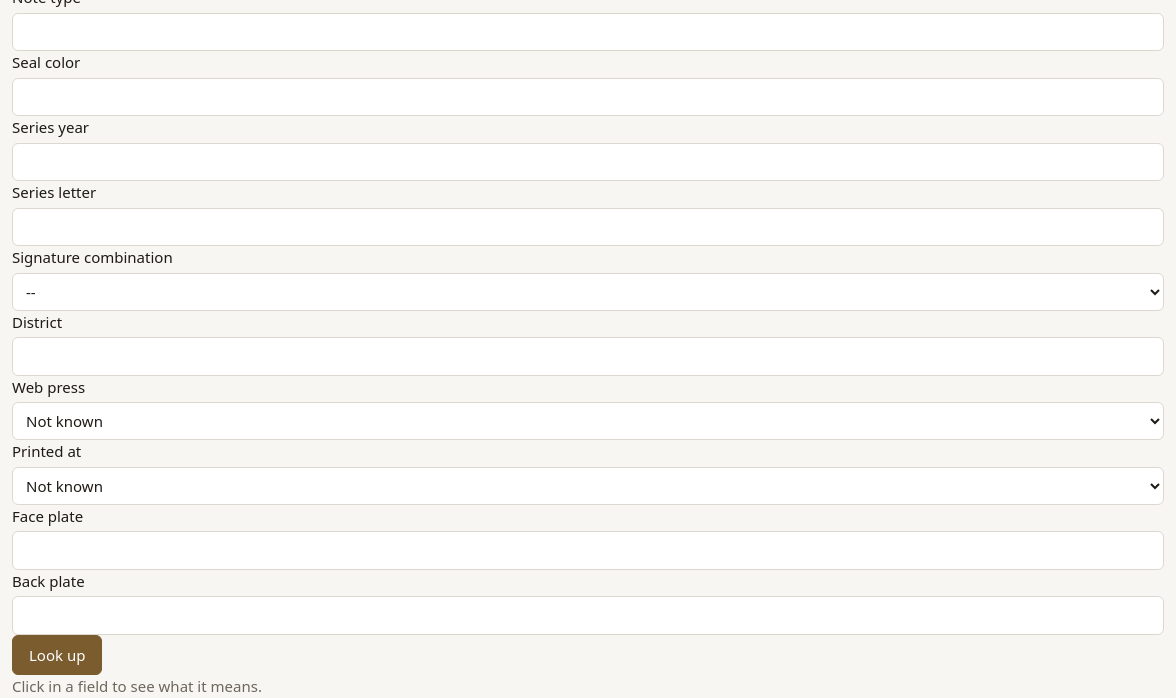
Test: FriedbergLookup › surfaces a 409 on recording rather than swallowing it
(page scrolled)
Click the button "Look up" at (57, 655), box [12, 634, 102, 675]
(page scrolled)
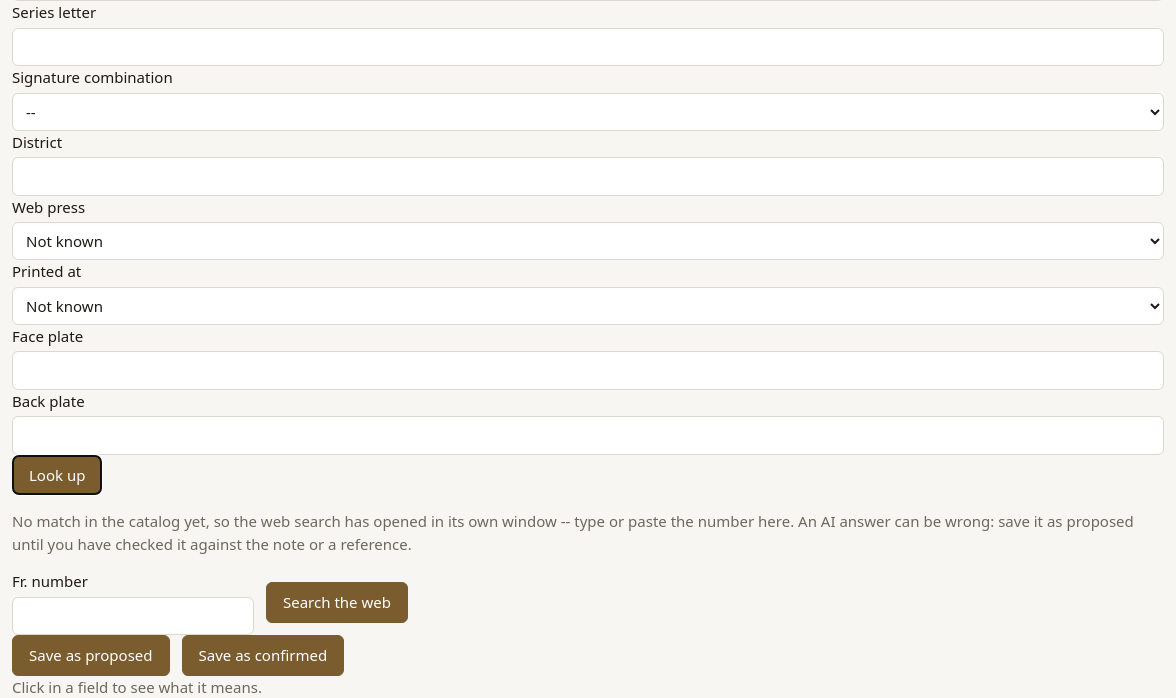
Type "9903" into the field labelled "Fr. number" at (133, 616), box [12, 596, 254, 635]
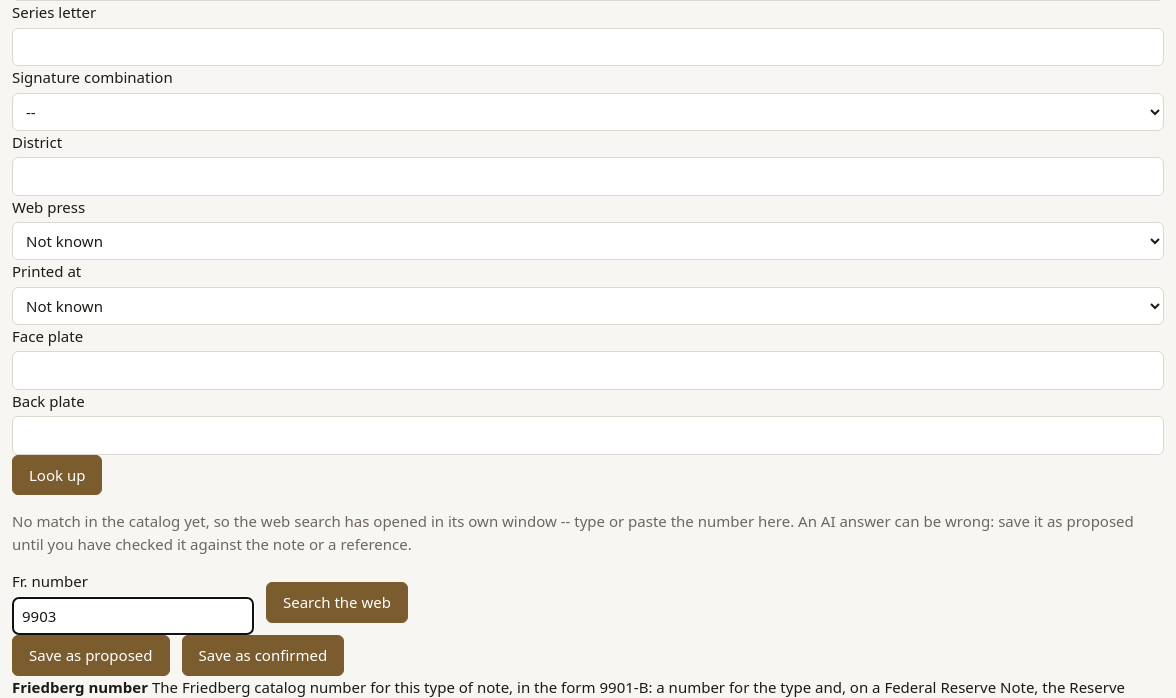
Click the button "Save as proposed" at (91, 655), box [12, 635, 170, 676]
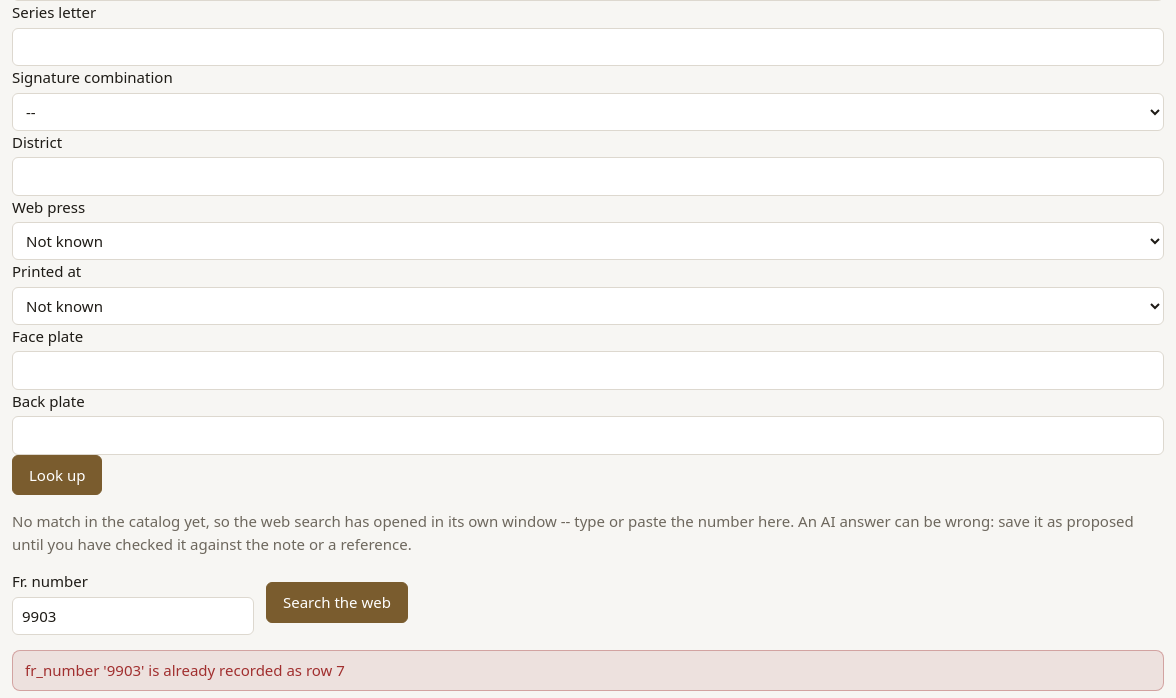
expect the text "fr_number '9903' is already recorded as row 7" is shown: met, box [12, 650, 1164, 690]
